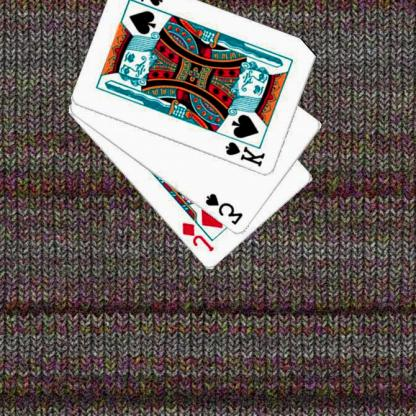3S: (204, 191, 246, 226)
JD: (181, 220, 217, 253)
KS: (224, 139, 268, 168), (123, 0, 167, 14)
